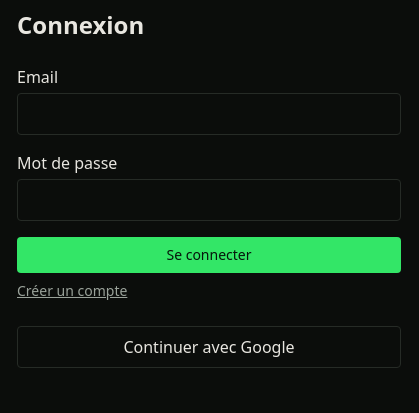
Test: Connexion page › displays error message and does not redirect when signInWithEmail rejects
The width and height of the screenshot is (419, 413).
In the field labelled "Email": (209, 114) left=17, top=93, right=401, bottom=135, type "chef@example.com"
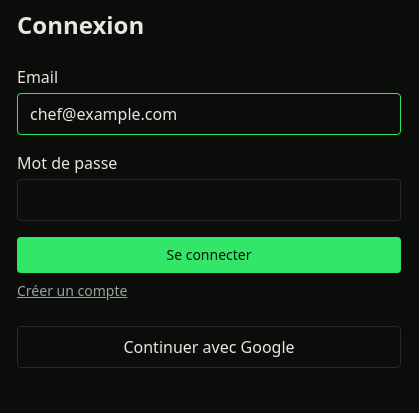
In the password field labelled "Mot de passe": (209, 200) left=17, top=179, right=401, bottom=221, type "wrongpassword"
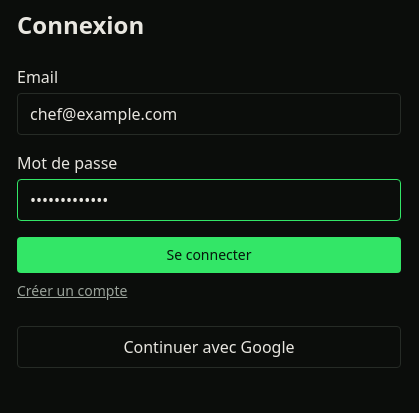
Click the button "Se connecter": (209, 255) left=17, top=237, right=401, bottom=273
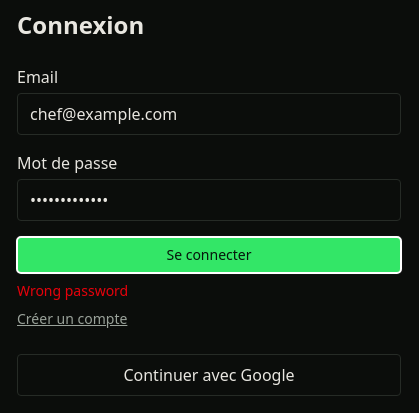
Expected: the text "Wrong password" is shown, left=17, top=281, right=128, bottom=300
